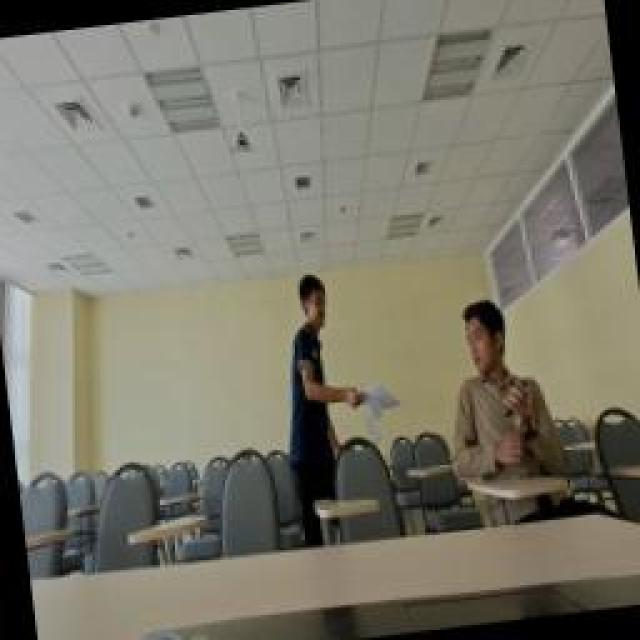study: (430, 268, 565, 480)
